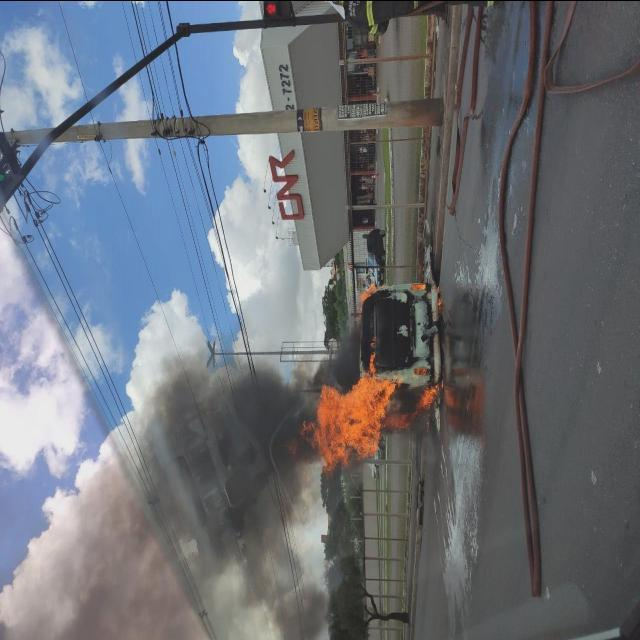Fire: (303, 351, 403, 475), (417, 385, 437, 411), (360, 283, 377, 301), (413, 282, 425, 290)
